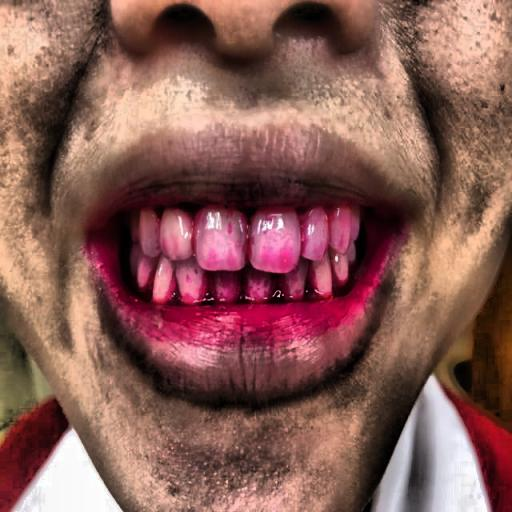Plaque: (115, 176, 381, 304)
